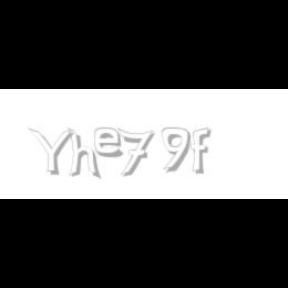7: (118, 128, 154, 178)
9: (162, 128, 190, 172)
Y: (28, 128, 74, 176)
e: (94, 128, 128, 158)
f: (191, 128, 215, 174)
h: (68, 128, 102, 180)
